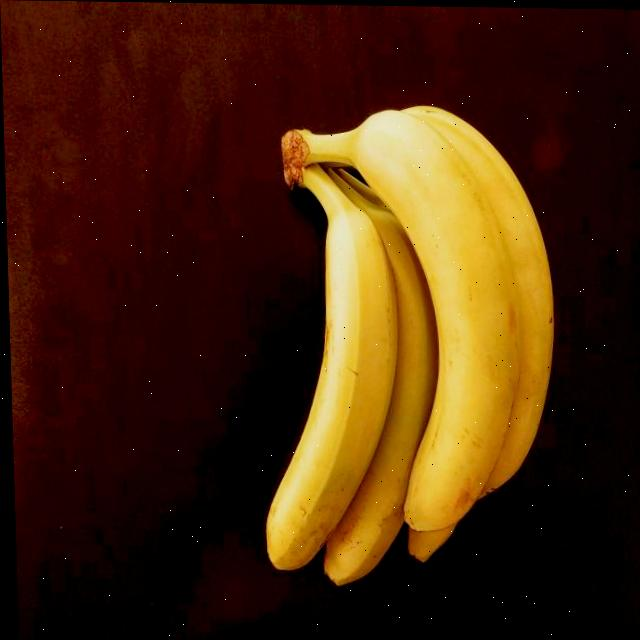banana: (245, 94, 565, 596)
